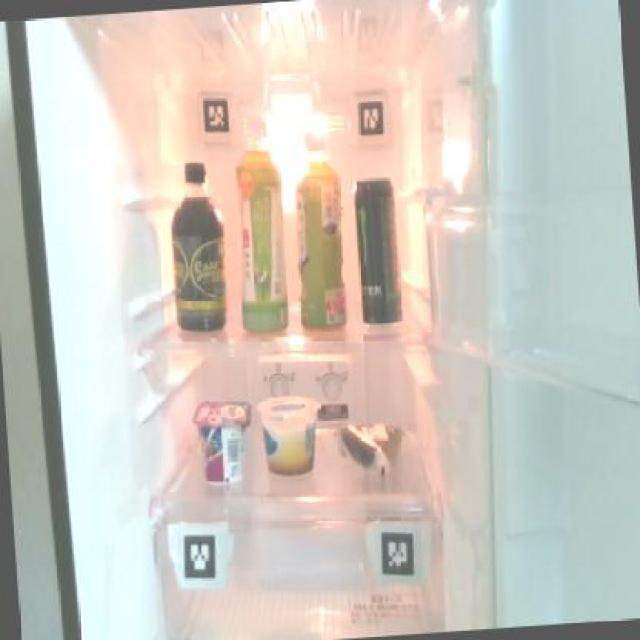coffee: (162, 157, 232, 336)
energy_drink: (349, 175, 406, 328)
pudding: (254, 389, 320, 480)
rice_ball: (332, 417, 406, 480)
tea_a: (286, 124, 349, 330)
tea_i: (228, 114, 292, 334)
yogurt: (192, 394, 256, 488)
